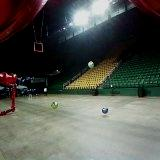Green_Balloon: (50, 101, 59, 109), (88, 60, 94, 70)
Orange_Square_GShape: (34, 42, 44, 52)
Purple_Balloon: (101, 107, 109, 114)
